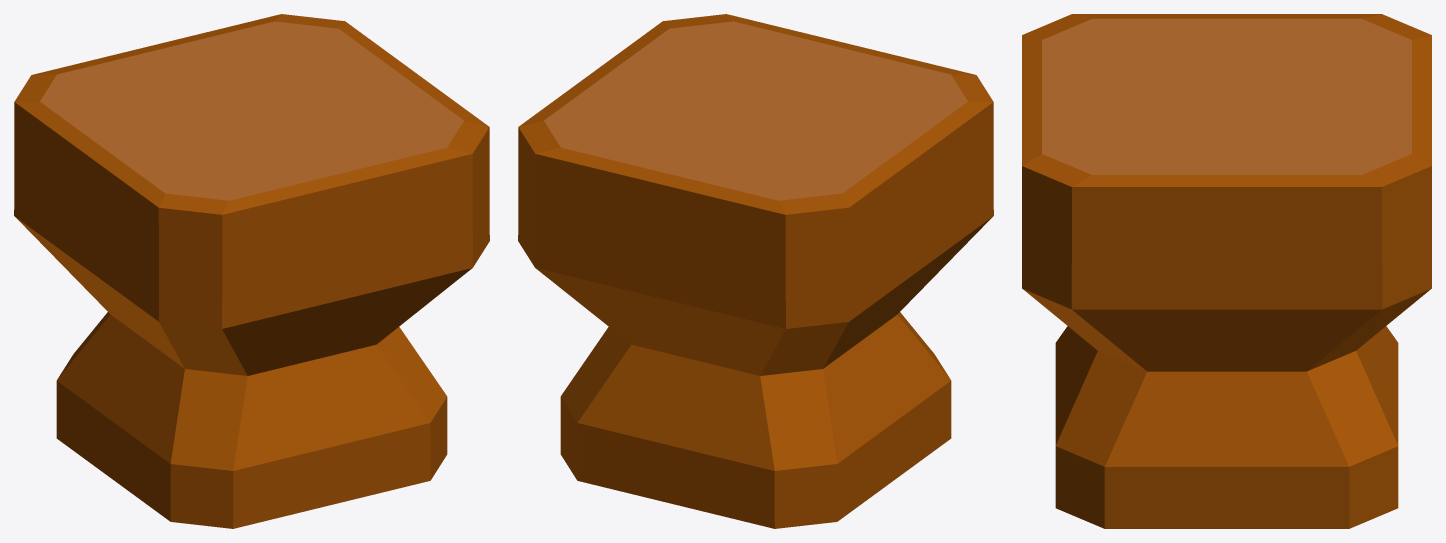
The model's file is Platform.fbx.
3 renders of one model, left to right at view 1: azimuth 30°, elevation 25°; view 2: azimuth 150°, elevation 25°; view 3: azimuth 270°, elevation 25°, orthographic. The views are drawn at different scales.
Parts seen in each view (by area): view 1: Platform_Medium; view 2: Platform_Medium; view 3: Platform_Medium.
Part boxes in pixels (x1=…): Platform_Medium: x1=14, y1=14, x2=489, y2=528; Platform_Medium: x1=518, y1=14, x2=993, y2=528; Platform_Medium: x1=1022, y1=14, x2=1431, y2=528.
Size of the model in its own units: 11.96 by 11.58 by 11.96.
